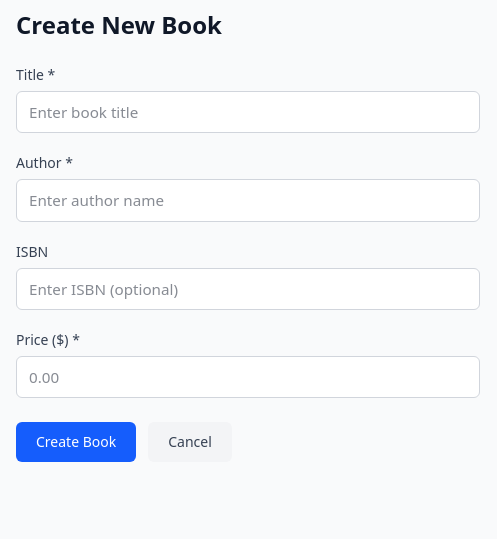
BookForm › validation errors › displays "Title is required" when submitting with empty title
This screenshot has width=497, height=539.
Note: Submit the form without filling any fields
Click the button "Create Book": (76, 442) [16,422,136,462]
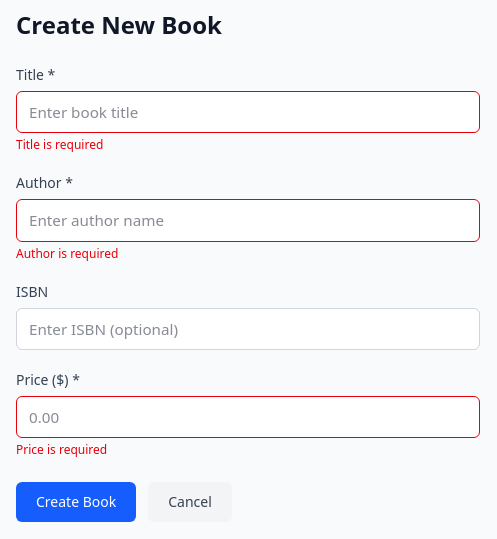
Check: the text "Title is required" is shown, box [16,136,103,153]
